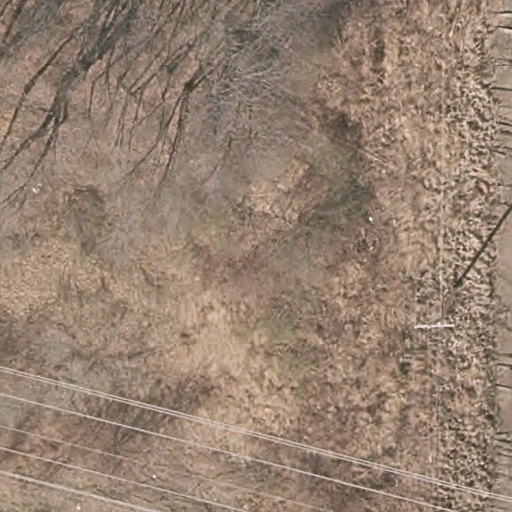DT: (416, 319, 457, 334)
